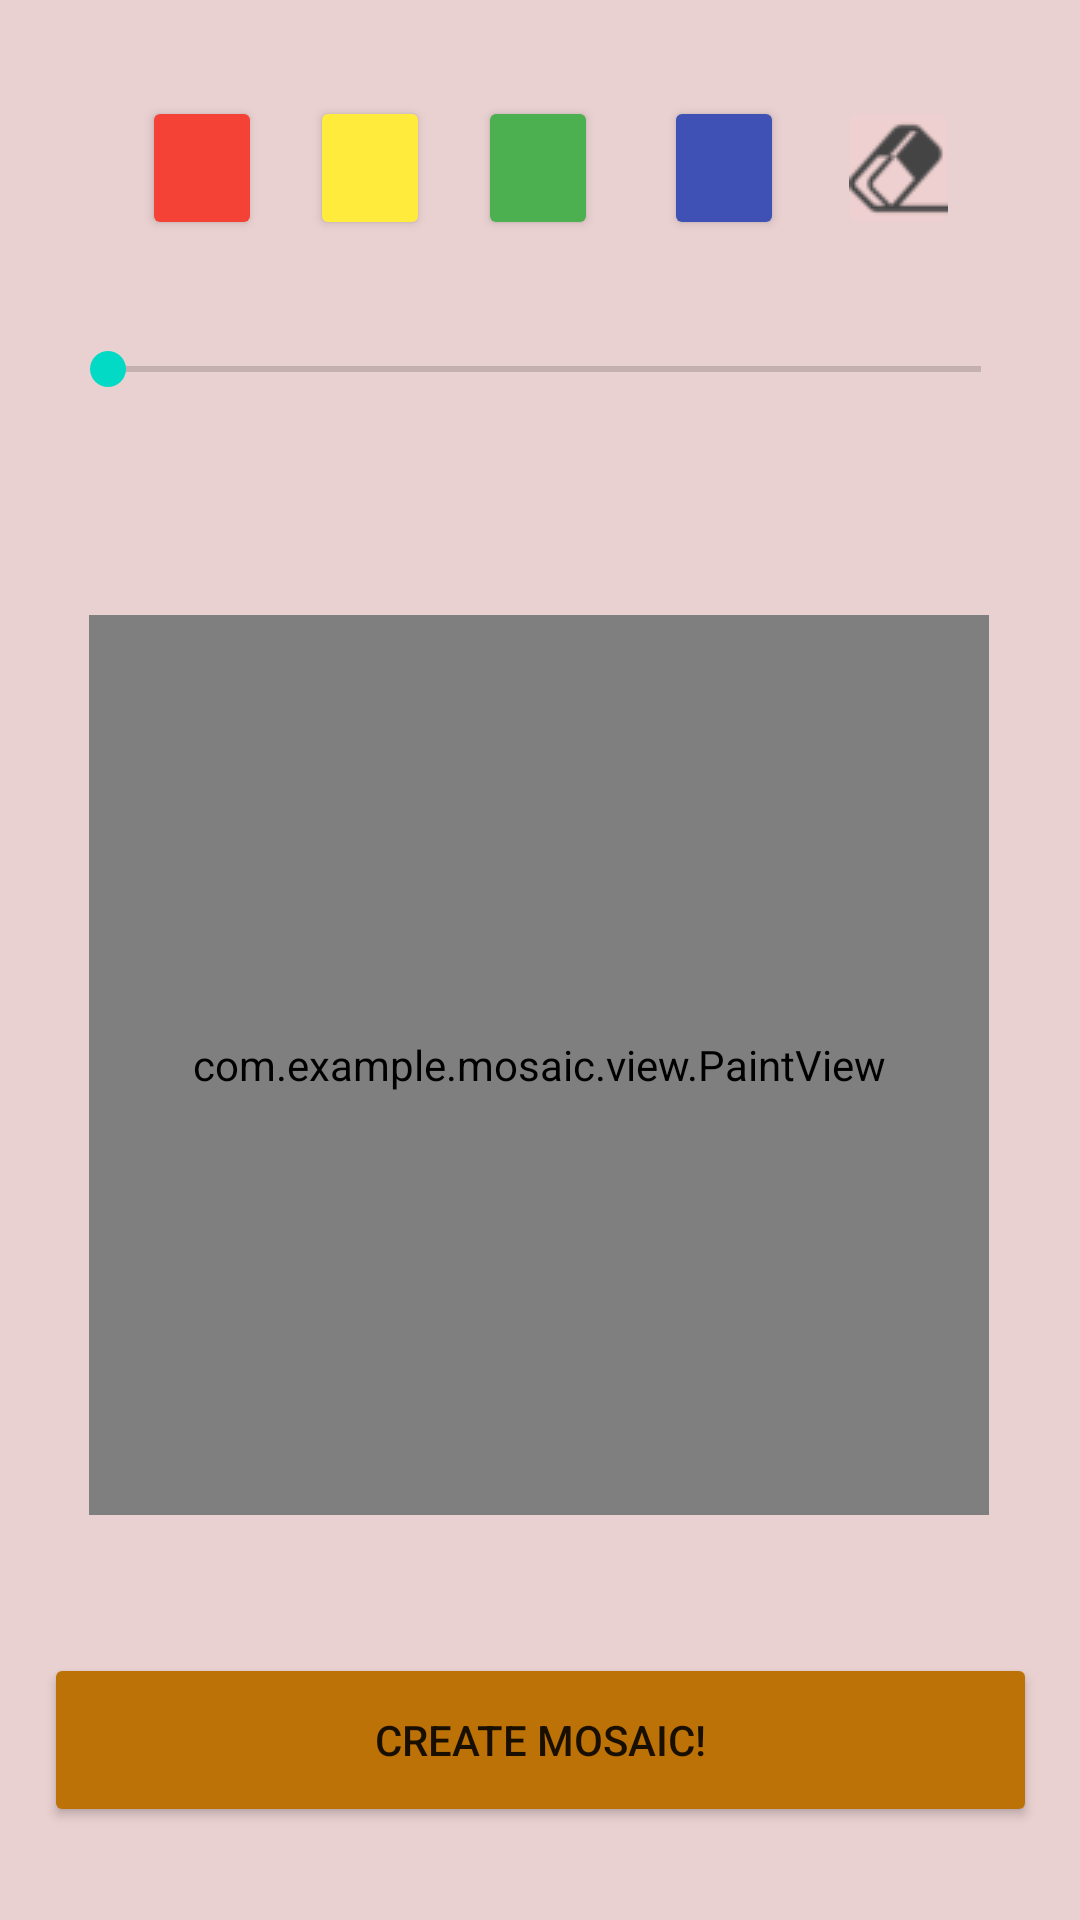

Icons on this 1080px×1920px Android screen, each with the point to tap as (x=x, y=y):
eraser: (x=898, y=168)
